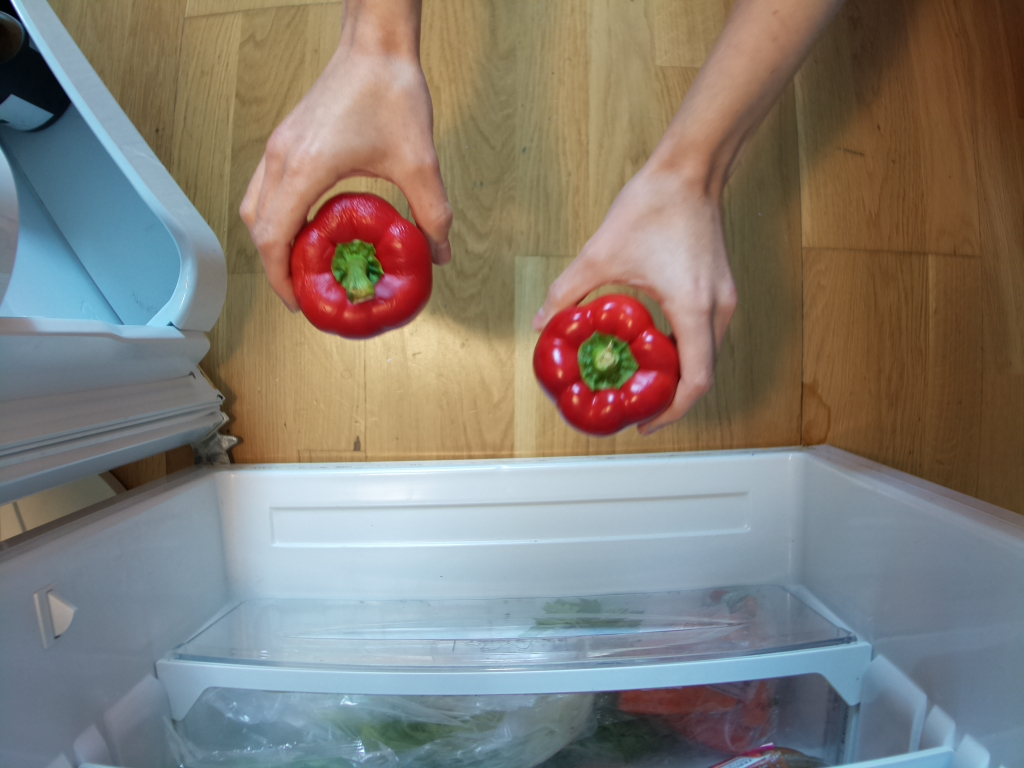pepper: (533, 295, 680, 439)
pepper-bad: (286, 190, 435, 342)
